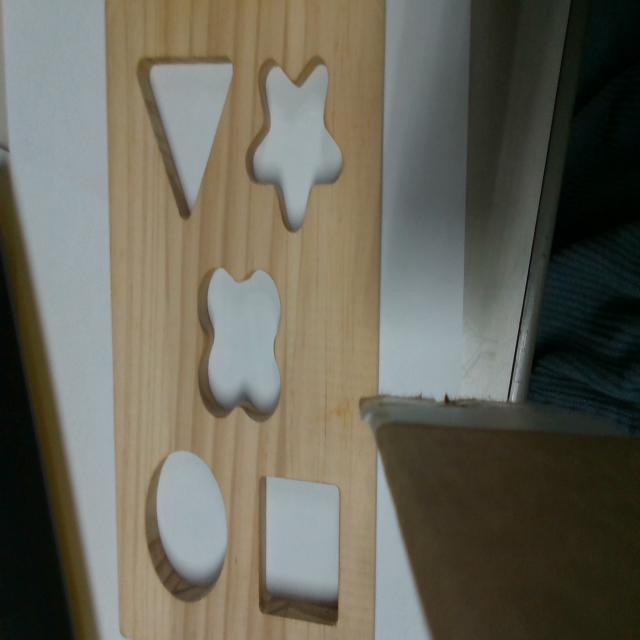circle: (146, 449, 231, 600)
flower: (195, 266, 280, 423)
square: (258, 475, 340, 627)
star: (242, 54, 345, 232)
triangle: (134, 51, 235, 220)
